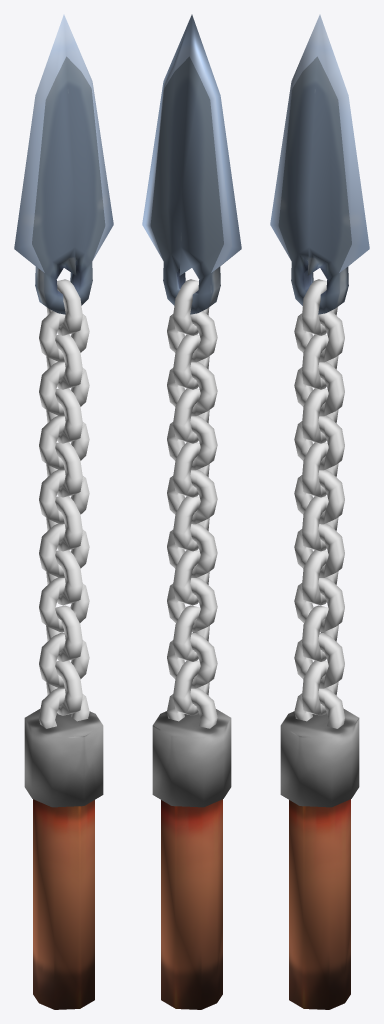
Rendered from BladeFlail.fbx.
3 renders of one model, left to right at view 1: azimuth 30°, elevation 25°; view 2: azimuth 150°, elevation 25°; view 3: azimuth 330°, elevation 25°, orthographic.
Parts seen in each view (by area): view 1: Chains, Blade, FlailHandle, FlailHilt; view 2: Chains, Blade, FlailHandle, FlailHilt; view 3: Chains, Blade, FlailHandle, FlailHilt.
Boxes of the visible parts, bbox=[...] form: Chains: bbox=[39, 279, 89, 728]; Blade: bbox=[14, 14, 113, 314]; FlailHandle: bbox=[33, 799, 94, 1009]; FlailHilt: bbox=[24, 708, 103, 807]; Chains: bbox=[167, 279, 217, 728]; Blade: bbox=[142, 14, 241, 314]; FlailHandle: bbox=[161, 799, 222, 1009]; FlailHilt: bbox=[152, 709, 231, 807]; Chains: bbox=[294, 279, 344, 728]; Blade: bbox=[270, 14, 369, 314]; FlailHandle: bbox=[289, 799, 350, 1009]; FlailHilt: bbox=[280, 708, 359, 807].
Bounding box in the file's own units: 38.72 × 365 × 27.36.
4 materials, 3 textured.
